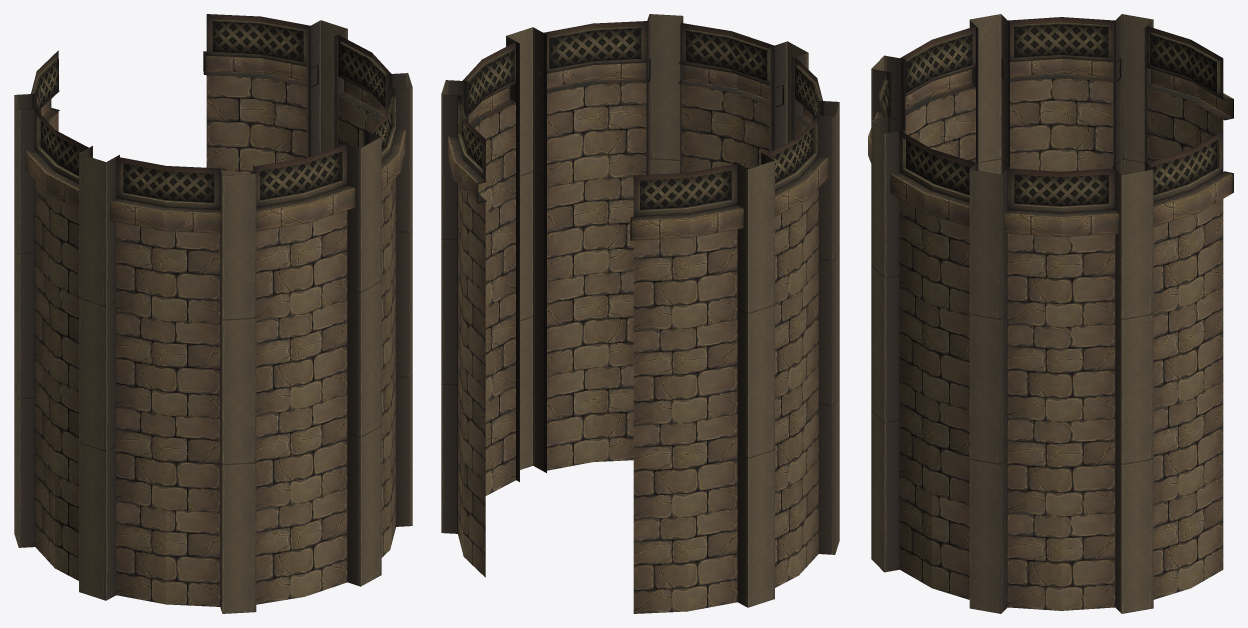
File: Altar03_Terrian_LV001.FBX
3 renders of one model, left to right at view 1: azimuth 30°, elevation 25°; view 2: azimuth 150°, elevation 25°; view 3: azimuth 270°, elevation 25°, orthographic.
Parts seen in each view (by area): view 1: Altar03_Terrian_LV001; view 2: Altar03_Terrian_LV001; view 3: Altar03_Terrian_LV001.
Boxes of the visible parts, x1,y1,x2,y2 form: Altar03_Terrian_LV001: [14, 14, 412, 613]; Altar03_Terrian_LV001: [441, 14, 839, 613]; Altar03_Terrian_LV001: [868, 14, 1233, 613].
Size of the model in its own units: 1267 by 1587 by 1198.
Materials: 1 (1 with a texture image).
